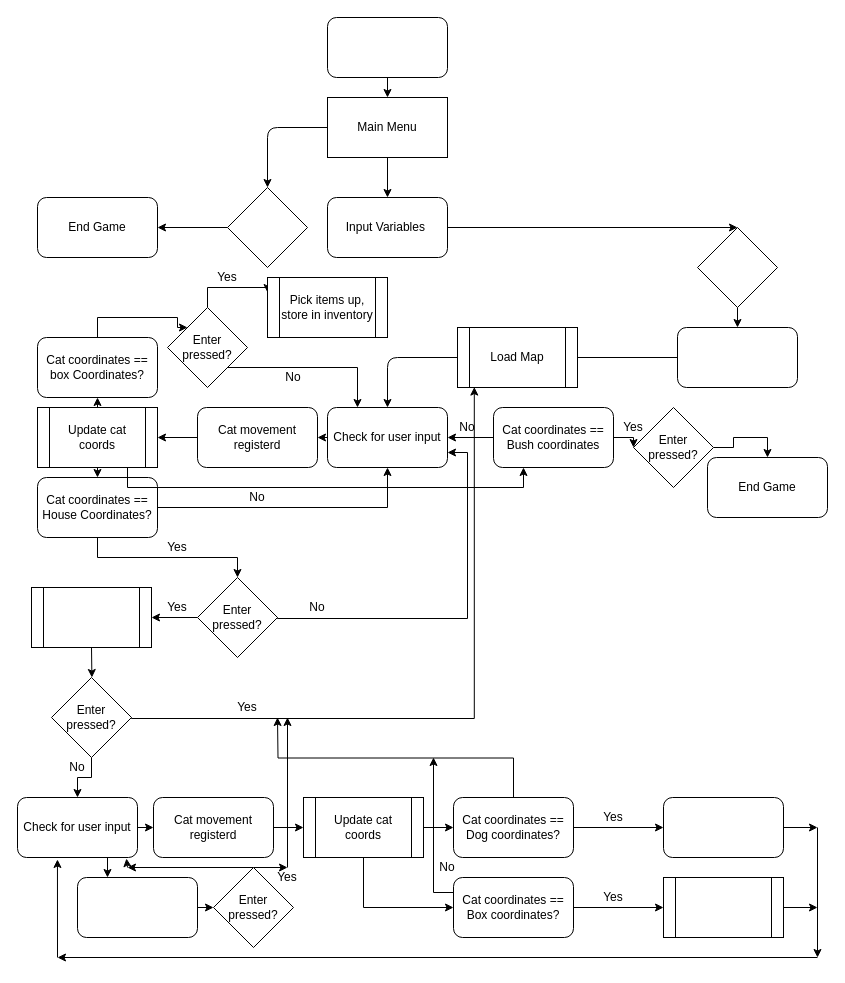
Image size: 845x983. Some labels were removed from this diagram. Each missing label, with the centre of its shape:
"Cat coordinates == Door Coordinates?" belongs at [137,907].
"Drop item + Increase death count" belongs at [723,827].
"Exit" belongs at [267,227].
"Launch Game" belongs at [387,47].
"Load Into House" belongs at [91,617].
"Play" belongs at [737,267].
"Play Game" belongs at [737,357].
"Store item into list" belongs at [723,907].
